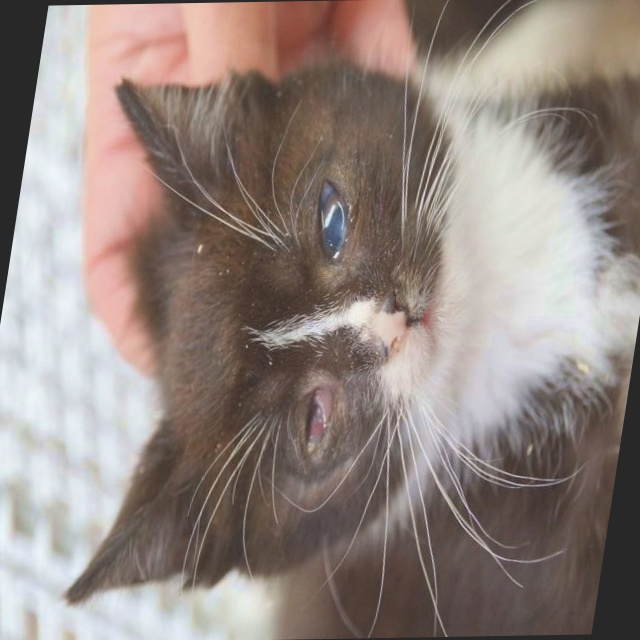eye_infection: (287, 384, 347, 463)
